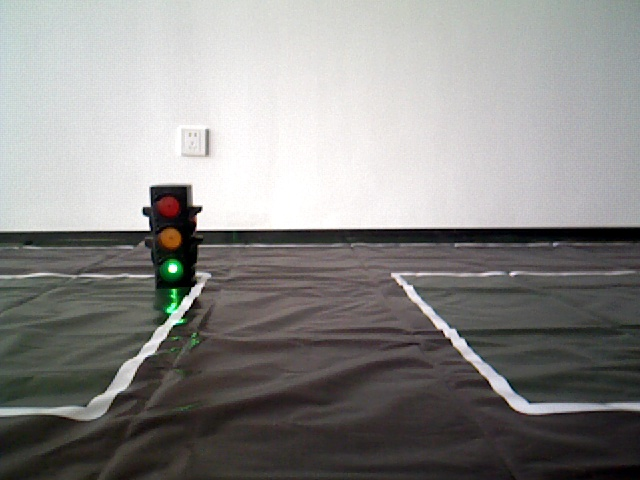green: (153, 188, 188, 280)
